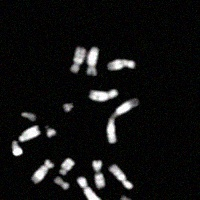chromosome: (106, 98, 139, 143), (76, 176, 105, 200), (109, 165, 132, 189), (32, 160, 53, 184), (70, 47, 85, 73), (107, 57, 135, 70), (89, 88, 116, 101), (93, 160, 105, 188), (18, 126, 39, 141), (87, 48, 98, 75), (59, 158, 74, 175), (54, 176, 69, 189), (12, 139, 22, 155), (22, 112, 36, 121), (64, 103, 74, 113), (47, 126, 56, 137), (121, 195, 132, 200)
